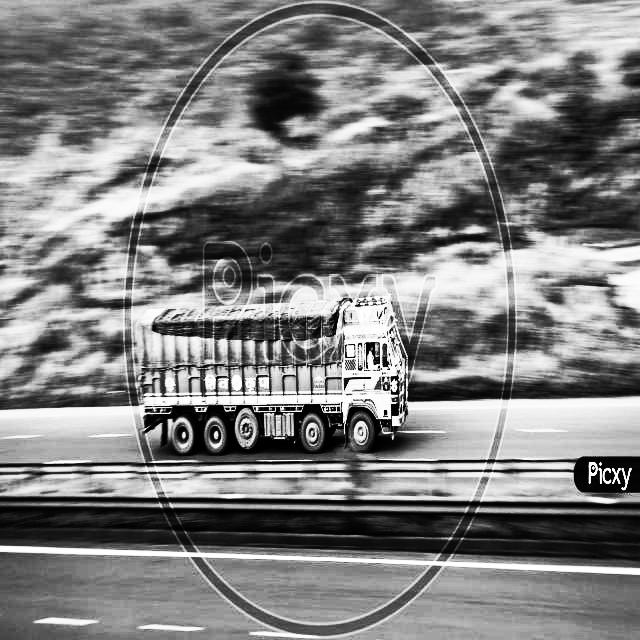HCV: (120, 223, 438, 465)
